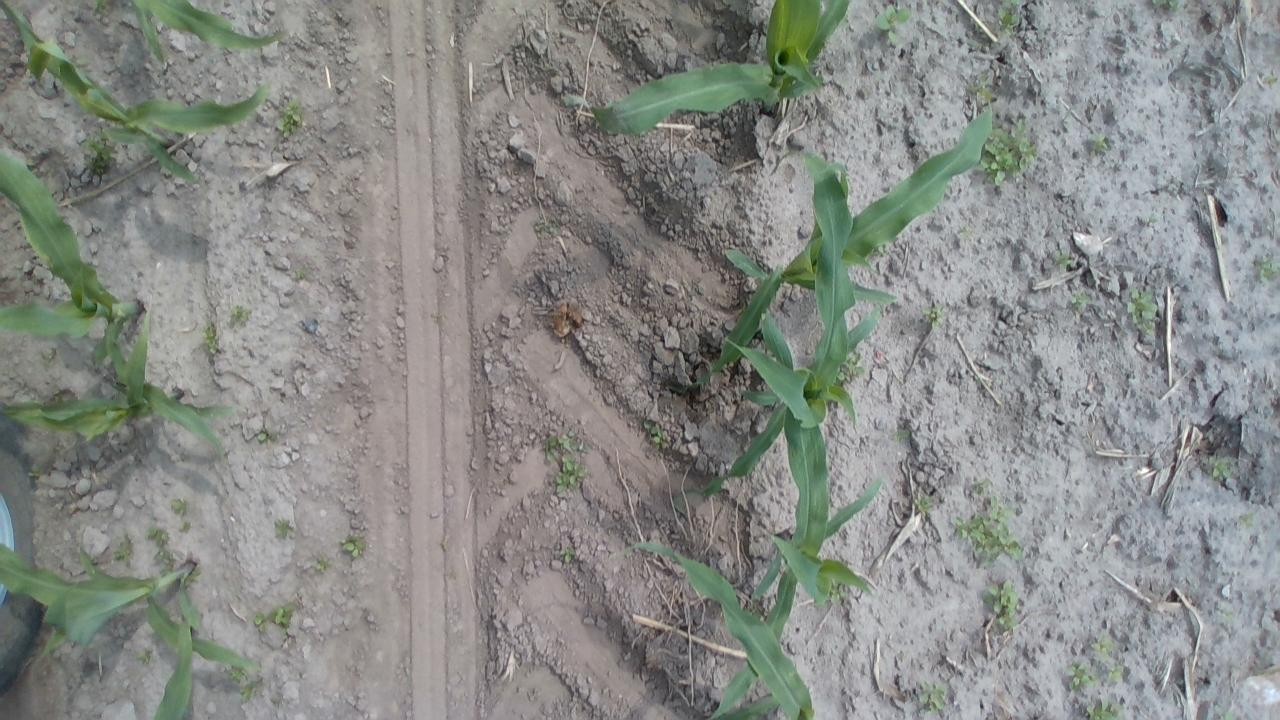Maize: (688, 102, 1002, 395), (684, 148, 878, 512), (713, 331, 882, 717), (2, 1, 280, 186), (0, 531, 263, 716), (556, 2, 857, 133), (626, 532, 816, 716), (0, 310, 240, 452), (0, 156, 145, 391), (79, 0, 295, 97), (119, 0, 290, 66), (142, 607, 198, 720)
Weeds: (952, 487, 1022, 567), (980, 119, 1039, 189), (542, 428, 591, 496), (982, 577, 1022, 632), (1125, 286, 1160, 338), (872, 4, 912, 44), (83, 136, 119, 176), (254, 604, 298, 636), (276, 96, 306, 139), (1203, 450, 1237, 485), (1066, 656, 1100, 690), (918, 678, 949, 714), (144, 526, 172, 564), (994, 0, 1020, 38), (1079, 698, 1126, 719), (967, 71, 996, 105), (1090, 632, 1120, 662), (338, 532, 368, 562), (840, 350, 866, 384), (921, 301, 950, 330), (270, 515, 300, 543), (200, 318, 223, 354), (107, 535, 135, 564), (909, 489, 936, 518), (234, 674, 260, 704), (1050, 246, 1077, 274), (1254, 251, 1277, 282), (644, 421, 667, 450), (825, 580, 850, 605), (1066, 289, 1092, 313), (228, 302, 252, 328), (530, 216, 560, 236), (1088, 133, 1112, 156), (222, 664, 250, 682), (1149, 0, 1187, 13), (890, 426, 916, 444), (971, 477, 995, 496), (1106, 661, 1127, 682), (86, 0, 110, 18), (1236, 512, 1257, 532), (170, 497, 192, 516), (255, 426, 278, 444), (1218, 604, 1236, 624), (136, 648, 156, 666), (314, 554, 332, 574), (560, 547, 578, 565), (956, 221, 974, 238), (292, 264, 308, 282), (28, 463, 43, 480), (1216, 705, 1234, 719), (270, 28, 288, 42), (872, 243, 888, 258), (186, 568, 200, 585), (161, 564, 174, 578), (1264, 74, 1276, 88), (1144, 215, 1158, 225), (180, 522, 191, 533)
